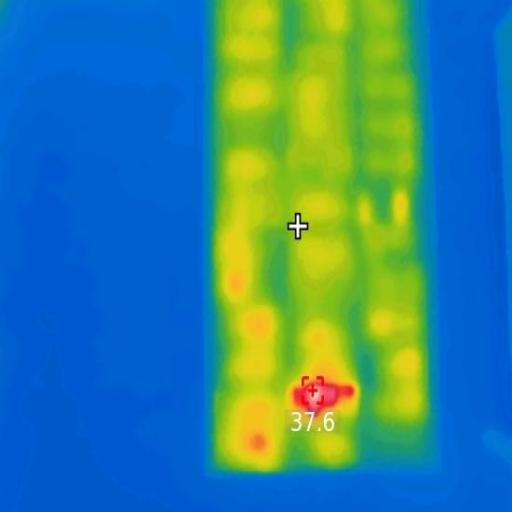hotspot: (292, 380, 356, 410)
